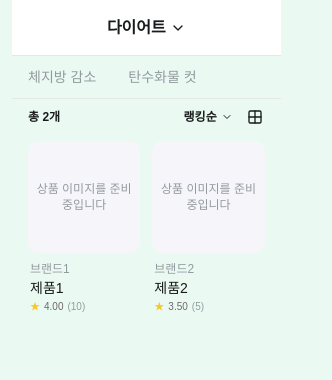
Scenario: CategoryListPage › 리스트 뷰 토글 시 product-list가 렌더된다
Click the button named "리스트 뷰로 전환".
click(255, 117)  # box 245,107 -> 265,127
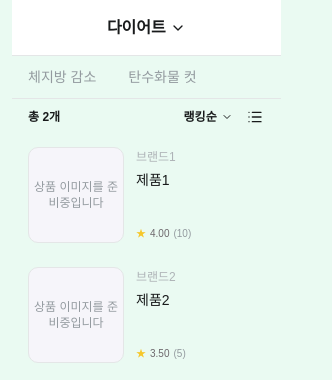
Expected: the list with test id "product-list" is shown, 28,147 -> 191,363
Expected: the element with test id "product-grid" is gone
